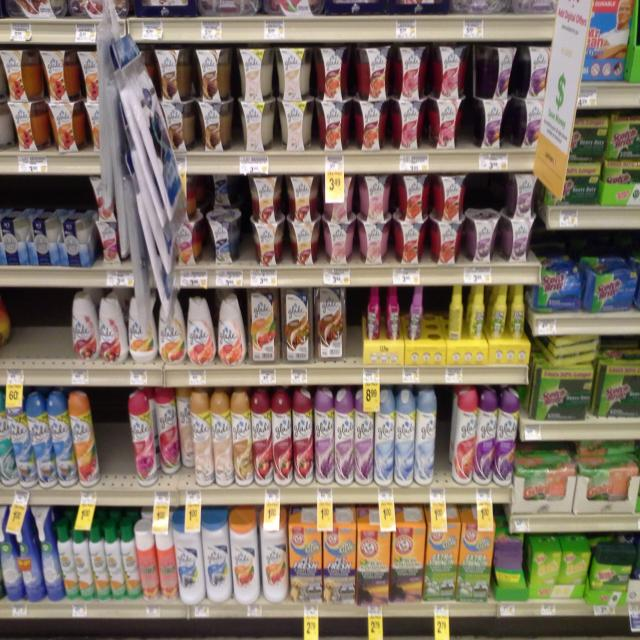void: (2, 290, 31, 387), (102, 392, 126, 504), (33, 291, 62, 383), (439, 388, 454, 503), (352, 284, 364, 386), (431, 287, 444, 380)
